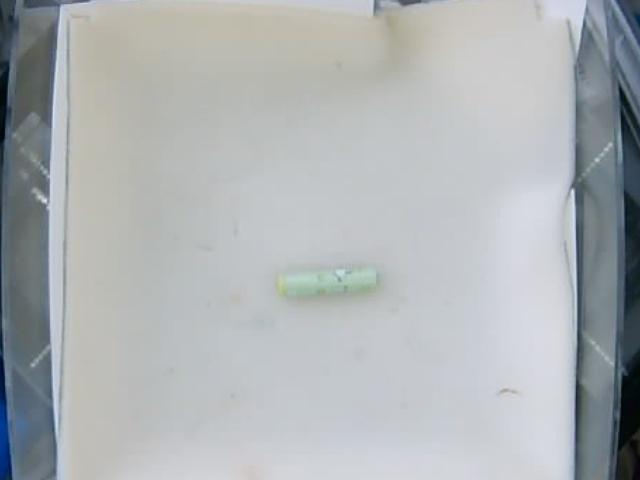Battery: (274, 265, 376, 297)
